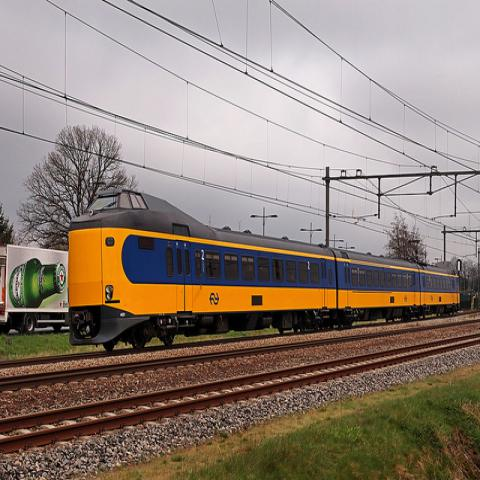truck: (0, 240, 69, 335)
